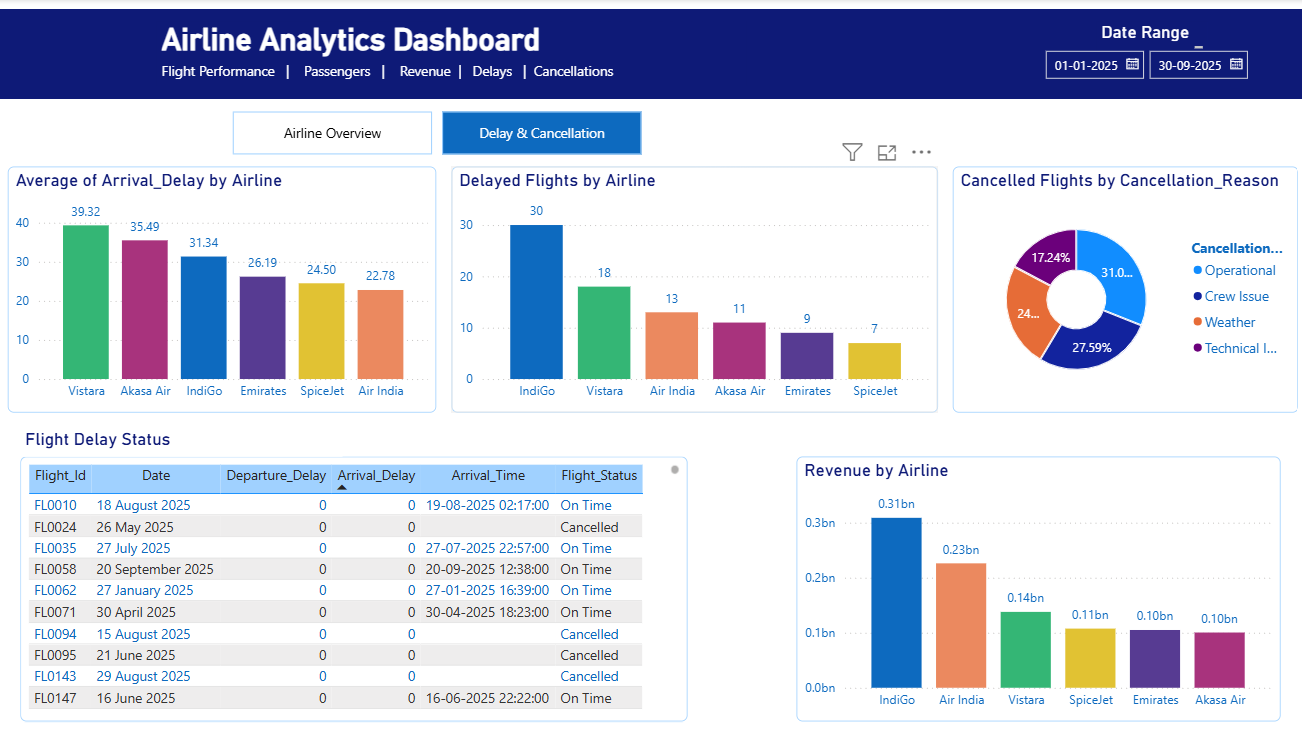

The dashboard page shown, as its layout file describes it:
{"tool":"powerbi","page":{"name":"Delay & Cancellation","canvas":[1280,720],"ordinal":1},"visuals":[{"type":"columnChart","fields":{"Y":["Sum(airline_analytics airline_data.Revenue)"],"Category":["airline_analytics airline_data.Airline"]},"box":[780.2,447.6,473.2,259.2],"z":0},{"type":"columnChart","fields":{"Y":["airline_analytics airline_data.Delayed Flights"],"Category":["airline_analytics airline_data.Airline"]},"box":[442.7,163.9,475.7,240.9],"z":1000},{"type":"pageNavigator","box":[228.8,110,400,42.5],"z":2000},{"type":"columnChart","fields":{"Category":["airline_analytics airline_data.Airline"],"Y":["Avg(airline_analytics airline_data.Arrival_Delay)"]},"box":[8.6,163.9,419.4,240.9],"z":3000},{"type":"donutChart","fields":{"Y":["airline_analytics airline_data.Cancelled Flights"],"Category":["airline_analytics airline_data.Cancellation_Reason"]},"box":[933,163.9,338.7,240.9],"z":4000},{"type":"shape","box":[0,9.8,1280.3,88],"z":5000},{"type":"textbox","title":"Airline Analytics Dashboard","box":[154.1,22,577.2,63.6],"z":6000},{"type":"tableEx","fields":{"Values":["airline_analytics airline_data.Flight_Id","airline_analytics airline_data.Date","airline_analytics airline_data.Departure_Delay","airline_analytics airline_data.Arrival_Delay","airline_analytics airline_data.Arrival_Time","airline_analytics airline_data.Flight_Status"]},"box":[20.8,447.6,653,259.2],"z":7000},{"type":"textbox","title":"Flight Delay Status","box":[20.8,420.7,315.5,26.9],"z":9000},{"type":"textbox","title":"Date Range","box":[1073.6,22,108.8,31.8],"z":10000},{"type":"slicer","fields":{"Values":["airline_analytics airline_data.Date"]},"box":[1011.3,40.4,232.3,45.2],"z":11000}]}

Visuals, with their boxes in screenshot pixels (x1, y1, x2, y2), scaled from the page's 1280x720 canvas onto the 1302x732 screenshot:
columnChart - Sum(airline_analytics airline_data.Revenue) x airline_analytics airline_data.Airline: Rect(794, 455, 1275, 719)
columnChart - airline_analytics airline_data.Delayed Flights x airline_analytics airline_data.Airline: Rect(450, 167, 934, 412)
pageNavigator: Rect(233, 112, 640, 155)
columnChart - airline_analytics airline_data.Airline x Avg(airline_analytics airline_data.Arrival_Delay): Rect(9, 167, 435, 412)
donutChart - airline_analytics airline_data.Cancelled Flights x airline_analytics airline_data.Cancellation_Reason: Rect(949, 167, 1294, 412)
shape: Rect(0, 10, 1301, 99)
"Airline Analytics Dashboard" textbox: Rect(157, 22, 744, 87)
tableEx - airline_analytics airline_data.Flight_Id x airline_analytics airline_data.Date: Rect(21, 455, 685, 719)
"Flight Delay Status" textbox: Rect(21, 428, 342, 455)
"Date Range" textbox: Rect(1092, 22, 1203, 55)
slicer - airline_analytics airline_data.Date: Rect(1029, 41, 1265, 87)
